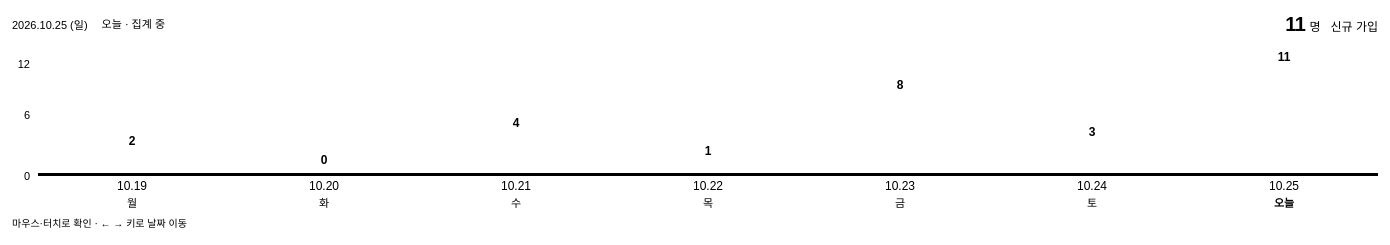
Test case: hovering a day updates its selected state and the visible detail
Hover over the button "4 10.21 수" at (516, 126), box [422,40,610,212]
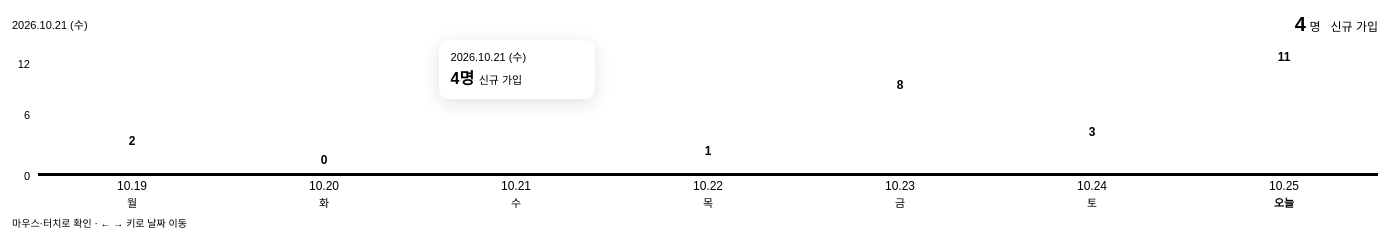
Check: the message shows "2026.10.21", box [12,19,67,31]
Check: the message shows "4명", box [12,12,1378,36]
Check: the text "집계 중" is gone
